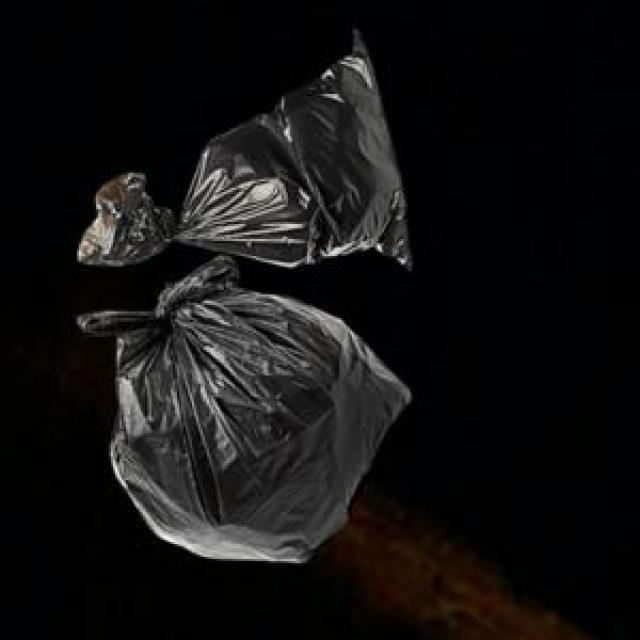waste: (78, 35, 410, 562)
